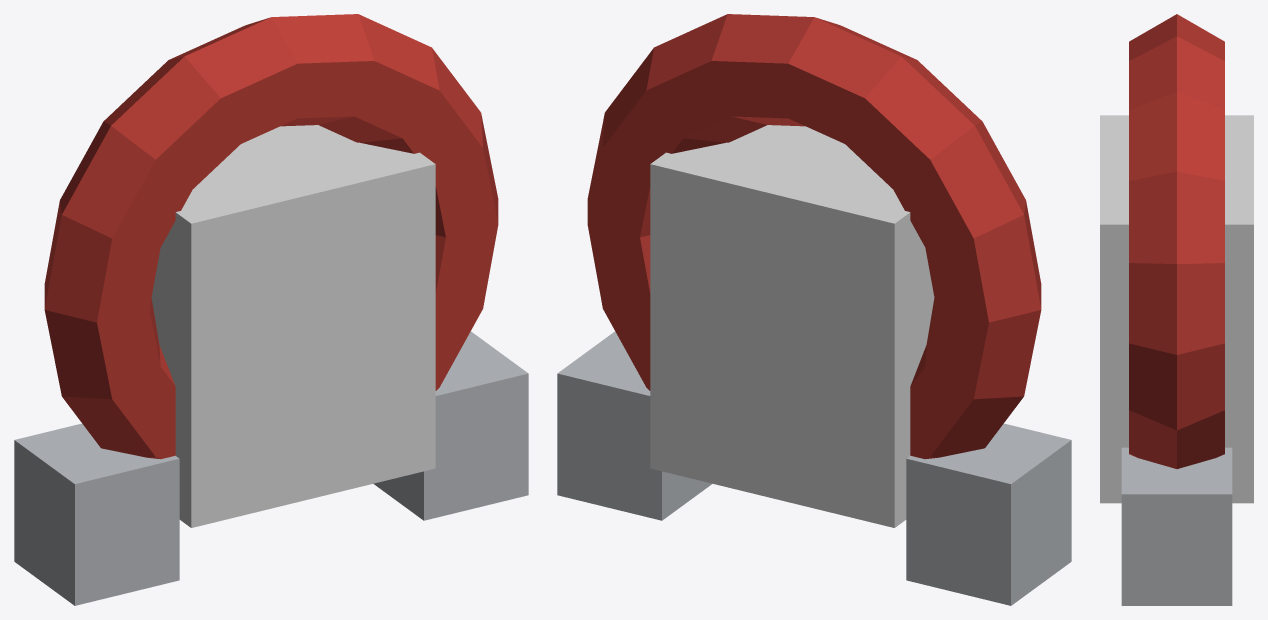
The model's file is lure-magnet.glb.
3 views of the same model, side by side, from view 1: azimuth 30°, elevation 25°; view 2: azimuth 150°, elevation 25°; view 3: azimuth 270°, elevation 25° (orthographic). The views are drawn at different scales.
Parts seen in each view (by area): view 1: lure-magnet; view 2: lure-magnet; view 3: lure-magnet.
Boxes of the visible parts, box(x1,y1,x2,y2) form: lure-magnet: box(14, 14, 528, 605); lure-magnet: box(557, 14, 1071, 605); lure-magnet: box(1100, 14, 1253, 605).
Size of the model in its own units: 0.78 by 0.84 by 0.25.
